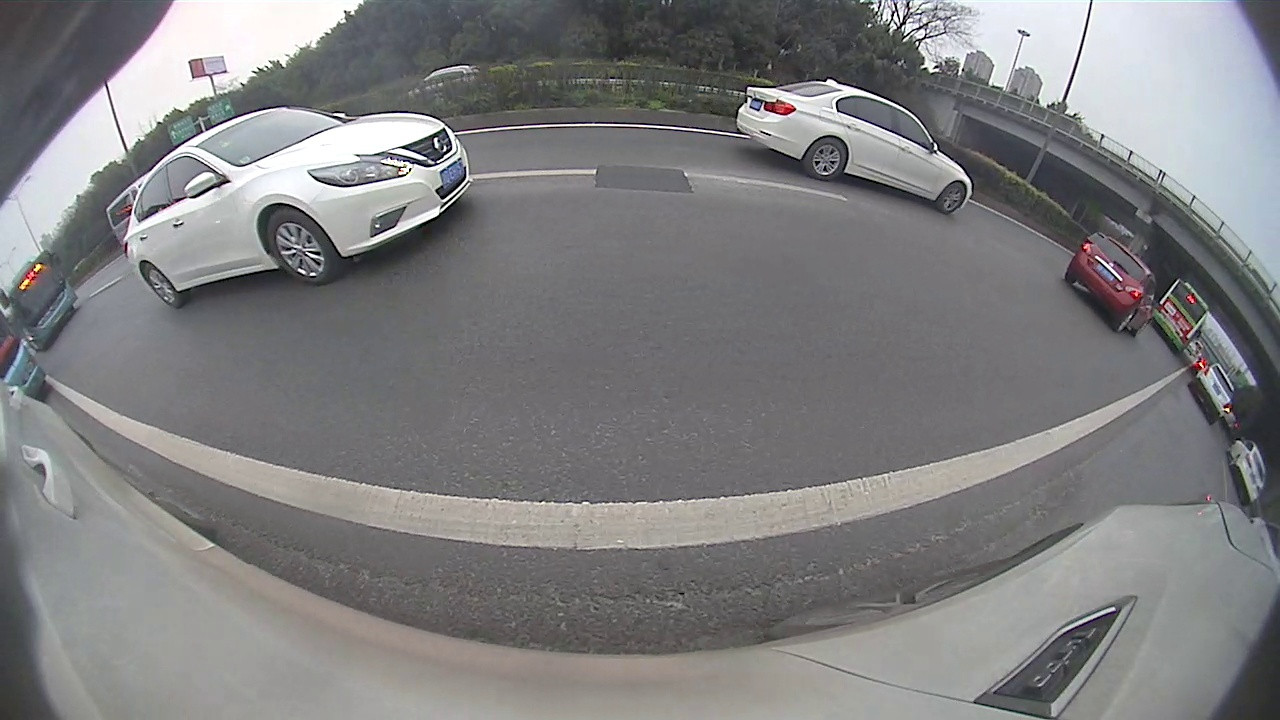bus: (1149, 276, 1212, 353)
car: (124, 106, 472, 310), (735, 77, 974, 217), (1063, 235, 1160, 336), (1193, 361, 1234, 424)
front: (264, 209, 340, 288), (934, 181, 968, 218)
rear: (802, 137, 846, 184), (141, 261, 180, 309)
